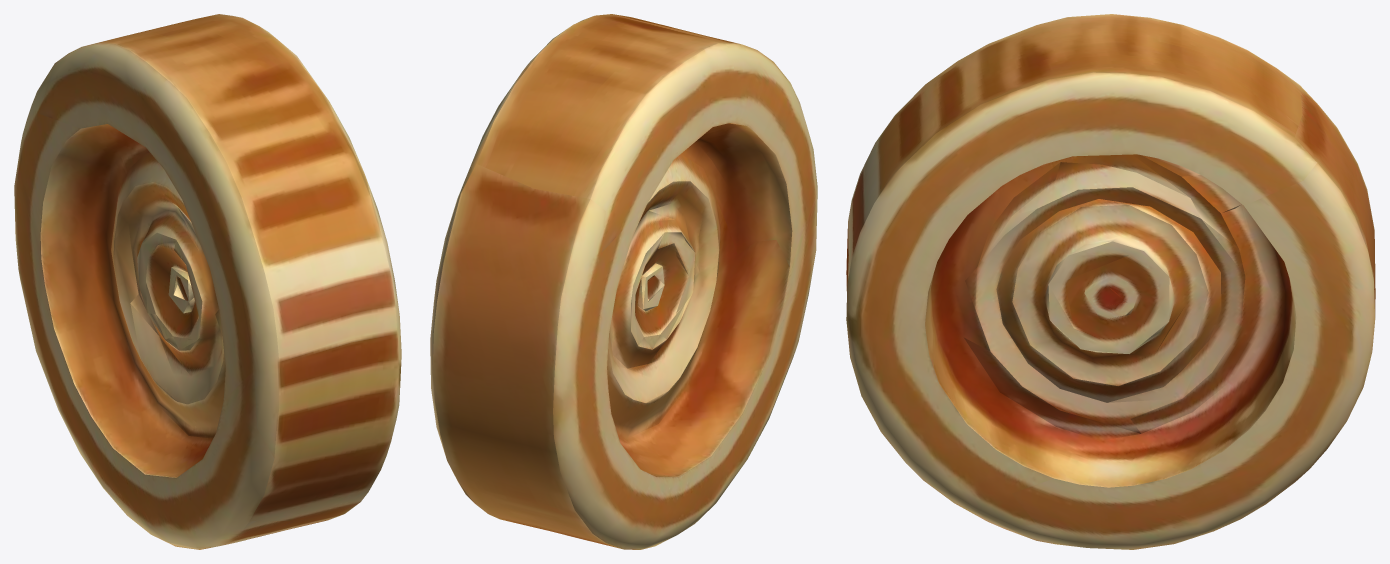
Rendered from m2TargetRing.glb.
The picture shows the model from 3 angles, left to right: view 1: azimuth 30°, elevation 25°; view 2: azimuth 150°, elevation 25°; view 3: azimuth 270°, elevation 25°; orthographic projection.
Visible parts, largest first — view 1: model; view 2: model; view 3: model.
Boxes of the visible parts, left/top/right/bottom form: model: left=14, top=14, right=401, bottom=549; model: left=430, top=14, right=817, bottom=549; model: left=846, top=14, right=1375, bottom=549.
Size of the model in its own units: 0.6368 by 1.89 by 1.9.
Materials: 1 (1 with a texture image).
